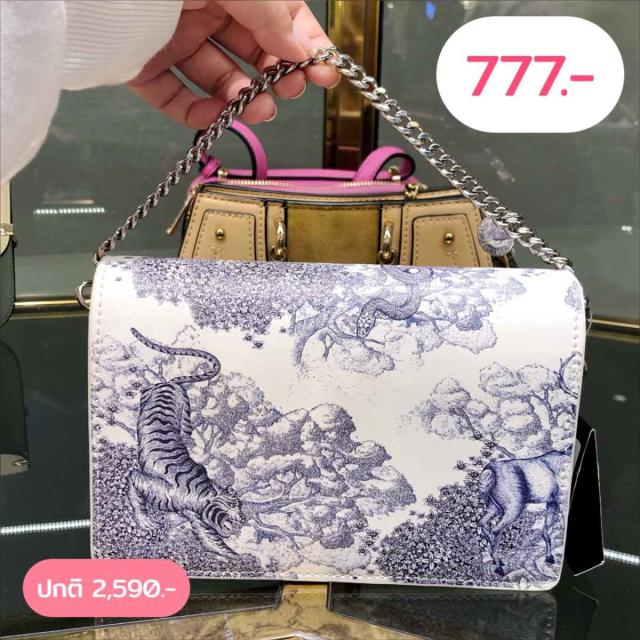Handbag: (69, 192, 592, 603)
